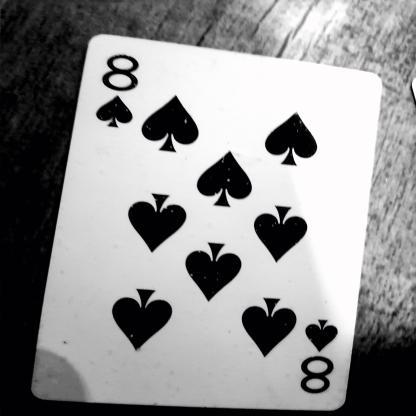8S: (88, 46, 160, 138), (301, 308, 347, 408)
